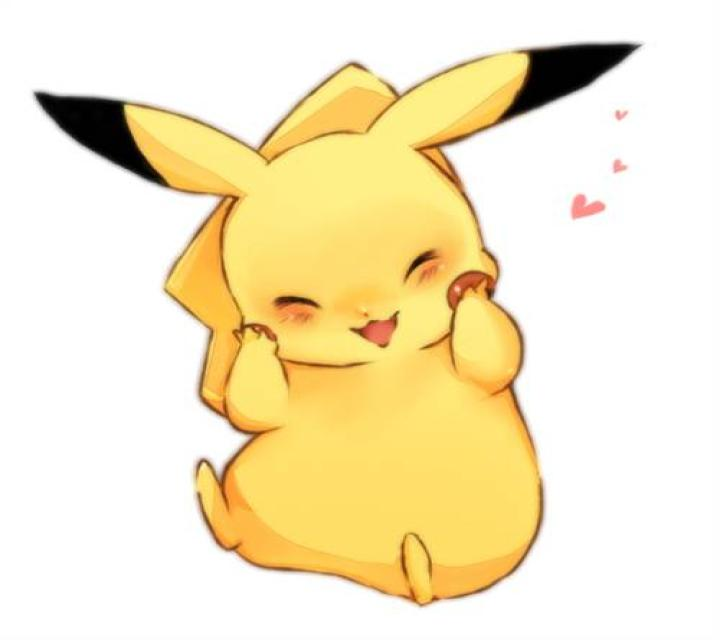Pikachu: (26, 51, 663, 612)
